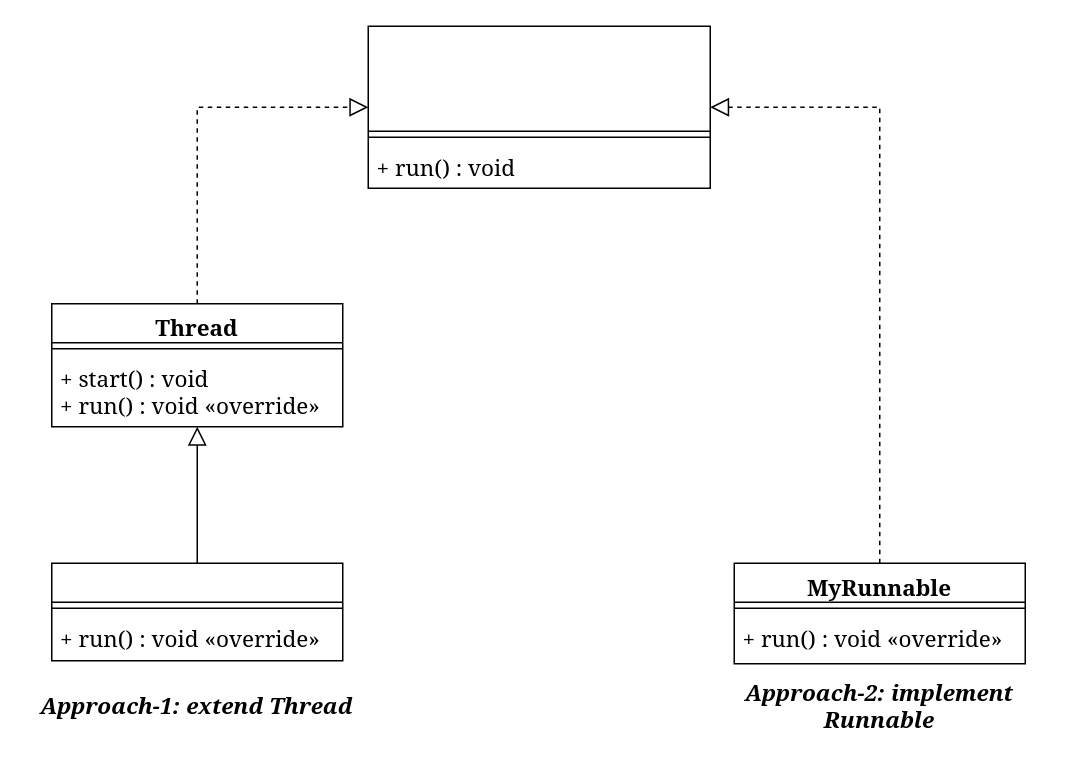
Some shapes in this 1076 by 758 pixel diagram are drawn without their labels. Each missing label, with the box of its shape:
MyThread: (50, 562, 343, 661)
«interface» «FunctionalInterface» Runnable: (367, 25, 710, 188)
